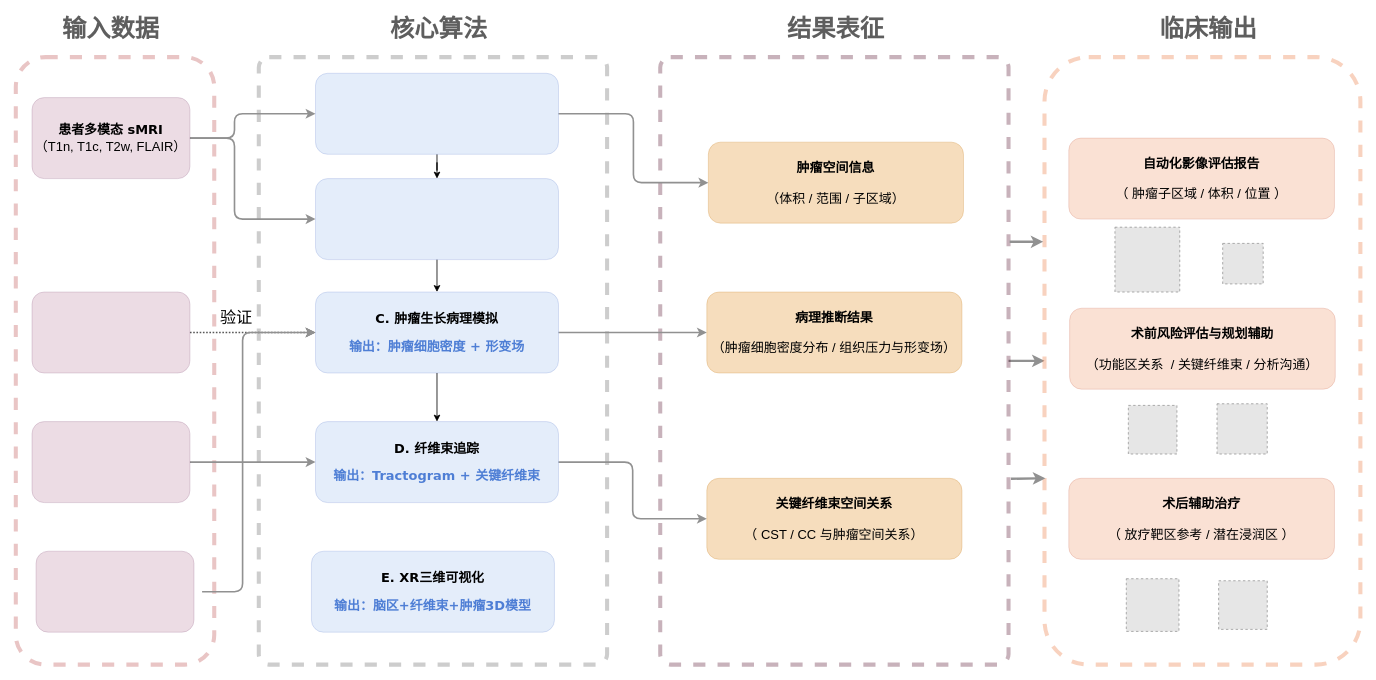
The diagram is 1376 pixels wide and 680 high, and some of its shapes have lost their labels. Grey dashed boxes stand in for pictures. Here are the shapes that lost their labels. From the top down, the box of each, then its label:
(315, 72, 558, 154): A. 肿瘤分割 输出：肿瘤子区域
(315, 178, 558, 260): B. 肿瘤修复 输出：Pseudo-healthy T1
(31, 291, 190, 373): 患者 MRS （multi-voxel）
(31, 421, 190, 503): 患者 DTI
(35, 550, 194, 632): 健康对照 （IXI Dataset）
